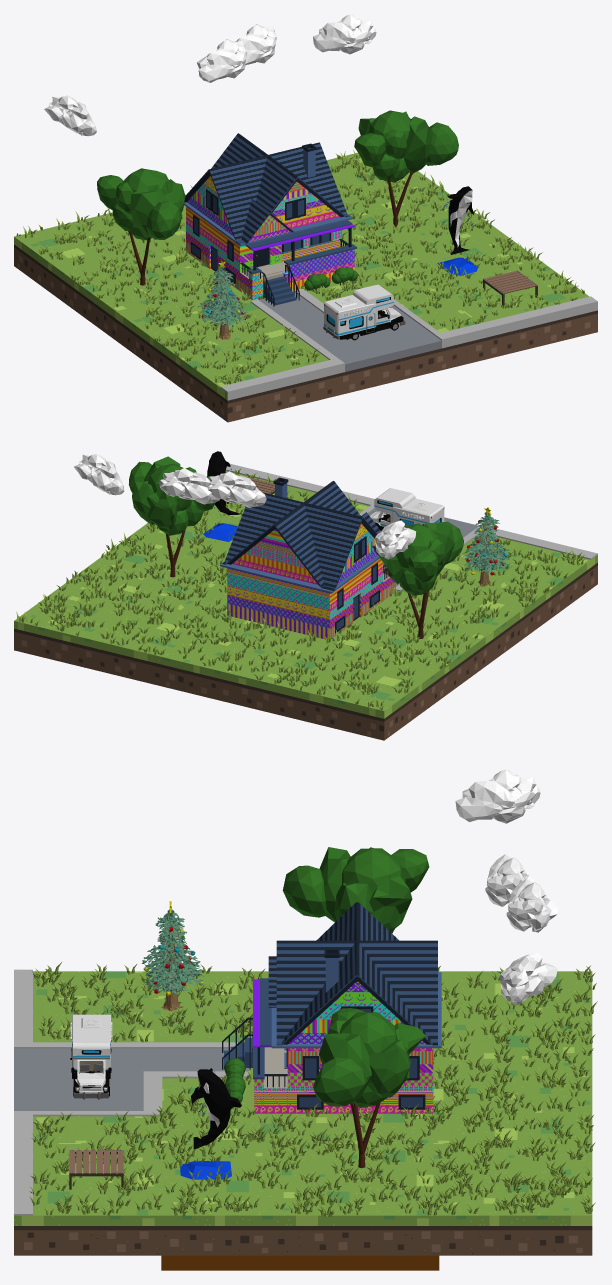
The picture shows the model from 3 angles, top to bottom: view 1: azimuth 30°, elevation 25°; view 2: azimuth 150°, elevation 25°; view 3: azimuth 270°, elevation 25°; orthographic projection. The views are drawn at different scales.
Visible parts, largest first — view 1: Cube.006, Cube.676, Circle.012_Grass_0.192, Cube.007, tree, tree.001, VEHICLES_CAMPER, OBJRANDOM_CHRISTMAS_TREE, ANIMAL_ORCA, Cube.009; view 2: Cube.006, Cube.676, Circle.012_Grass_0.192, Cube.007, tree.001, tree, VEHICLES_CAMPER, OBJRANDOM_CHRISTMAS_TREE, ANIMAL_ORCA; view 3: Cube.006, Circle.012_Grass_0.192, Cube.676, tree, Cube.007, tree.001, UNDERGROUND_ART_PIECE_VAN_GOGH, VEHICLES_CAMPER, OBJRANDOM_CHRISTMAS_TREE, ANIMAL_ORCA, Cube.009.
Part boxes in pixels (x1,y1,x2,y2): Cube.006: (14, 152, 597, 422); Cube.676: (184, 133, 357, 306); Circle.012_Grass_0.192: (16, 150, 584, 384); Cube.007: (44, 14, 376, 136); tree: (354, 110, 458, 227); tree.001: (97, 168, 185, 285); VEHICLES_CAMPER: (323, 284, 405, 340); OBJRANDOM_CHRISTMAS_TREE: (198, 260, 247, 339); ANIMAL_ORCA: (437, 186, 477, 275); Cube.009: (483, 270, 537, 305); Cube.006: (14, 463, 597, 740); Cube.676: (220, 477, 395, 640); Circle.012_Grass_0.192: (16, 468, 584, 710); Cube.007: (74, 453, 416, 559); tree.001: (372, 521, 463, 638); tree: (128, 456, 215, 577); VEHICLES_CAMPER: (370, 488, 444, 530); OBJRANDOM_CHRISTMAS_TREE: (462, 507, 509, 586); ANIMAL_ORCA: (203, 451, 241, 541); Cube.006: (14, 969, 592, 1255); Circle.012_Grass_0.192: (29, 962, 597, 1216); Cube.676: (222, 902, 441, 1113); tree: (313, 1008, 425, 1168); Cube.007: (455, 769, 557, 1005); tree.001: (282, 847, 429, 933); UNDERGROUND_ART_PIECE_VAN_GOGH: (161, 1255, 439, 1270); VEHICLES_CAMPER: (70, 1014, 112, 1099); OBJRANDOM_CHRISTMAS_TREE: (141, 901, 204, 1012); ANIMAL_ORCA: (180, 1068, 241, 1179); Cube.009: (69, 1149, 123, 1189).
Size of the model in its own units: 4071 by 2301 by 4040.
Materials: 38 (8 with a texture image).
